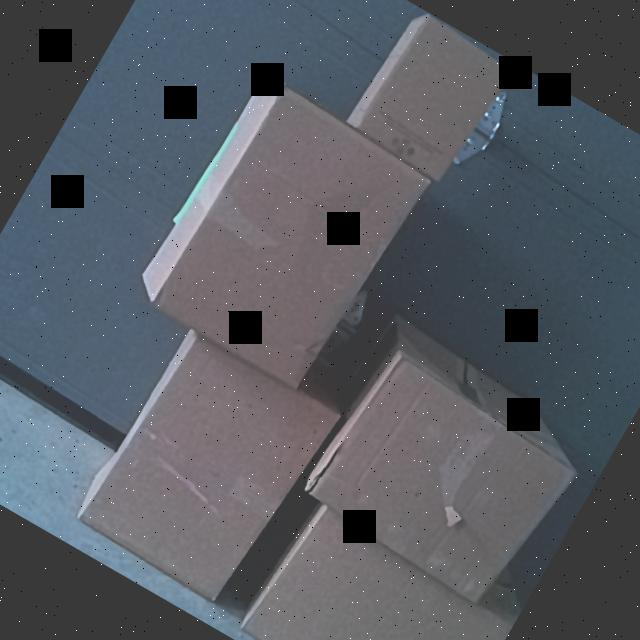box: (154, 88, 428, 392), (79, 330, 334, 604), (306, 353, 576, 608), (240, 502, 516, 640), (352, 10, 510, 183)
